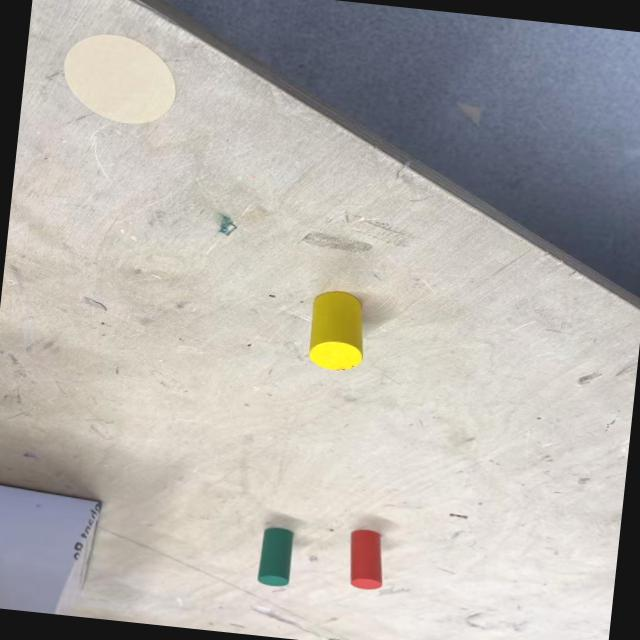yellow_cylinder: (306, 288, 370, 374)
